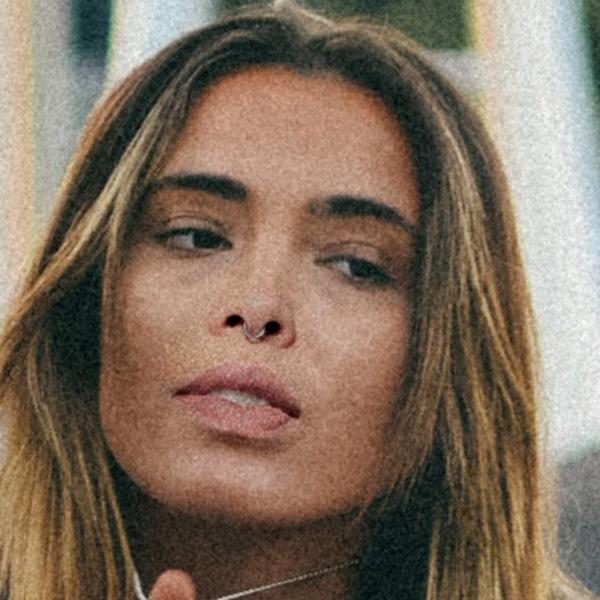Eyes: (142, 199, 239, 267), (309, 232, 399, 305)
